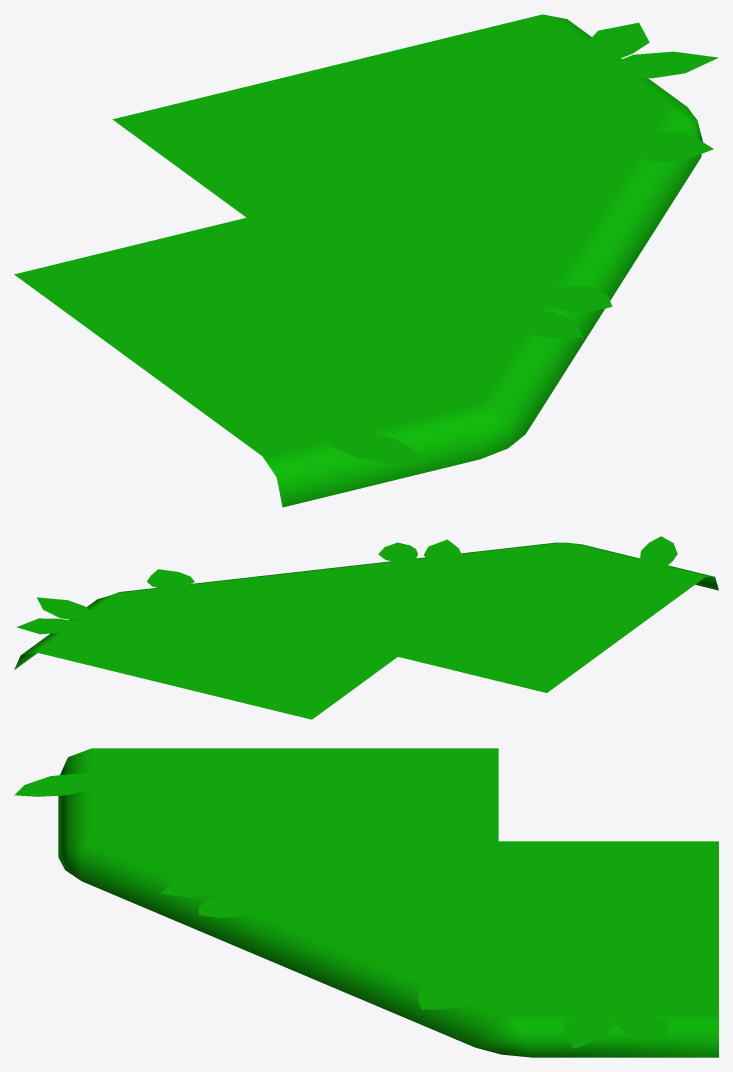
The picture shows the model from 3 angles, top to bottom: view 1: azimuth 30°, elevation 25°; view 2: azimuth 150°, elevation 25°; view 3: azimuth 270°, elevation 25°; orthographic projection. The views are drawn at different scales.
Visible parts, largest first — view 1: Plane.005; view 2: Plane.005; view 3: Plane.005.
Part boxes in pixels (<box>): Plane.005: <box>14,14,718,507</box>; Plane.005: <box>14,536,718,719</box>; Plane.005: <box>14,748,718,1057</box>.
Size of the model in its own units: 3.23 by 0.15 by 3.2.
